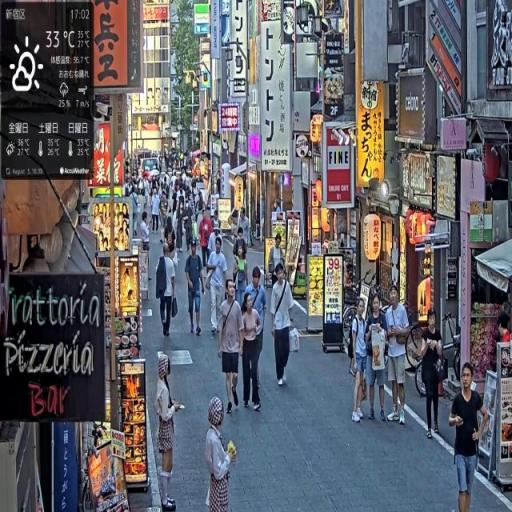person: (449, 363, 488, 512), (155, 354, 184, 512), (417, 307, 448, 443), (205, 394, 239, 512), (384, 286, 412, 426), (271, 263, 301, 393), (218, 278, 245, 415), (365, 293, 390, 427), (242, 284, 265, 415), (350, 295, 371, 426), (207, 235, 228, 342), (157, 241, 179, 341), (187, 239, 206, 340), (151, 190, 162, 235)
